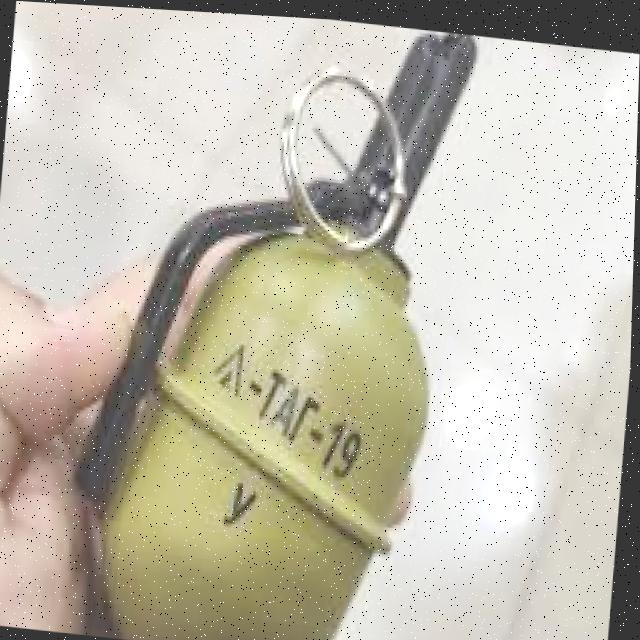grenade: (60, 3, 510, 640)
